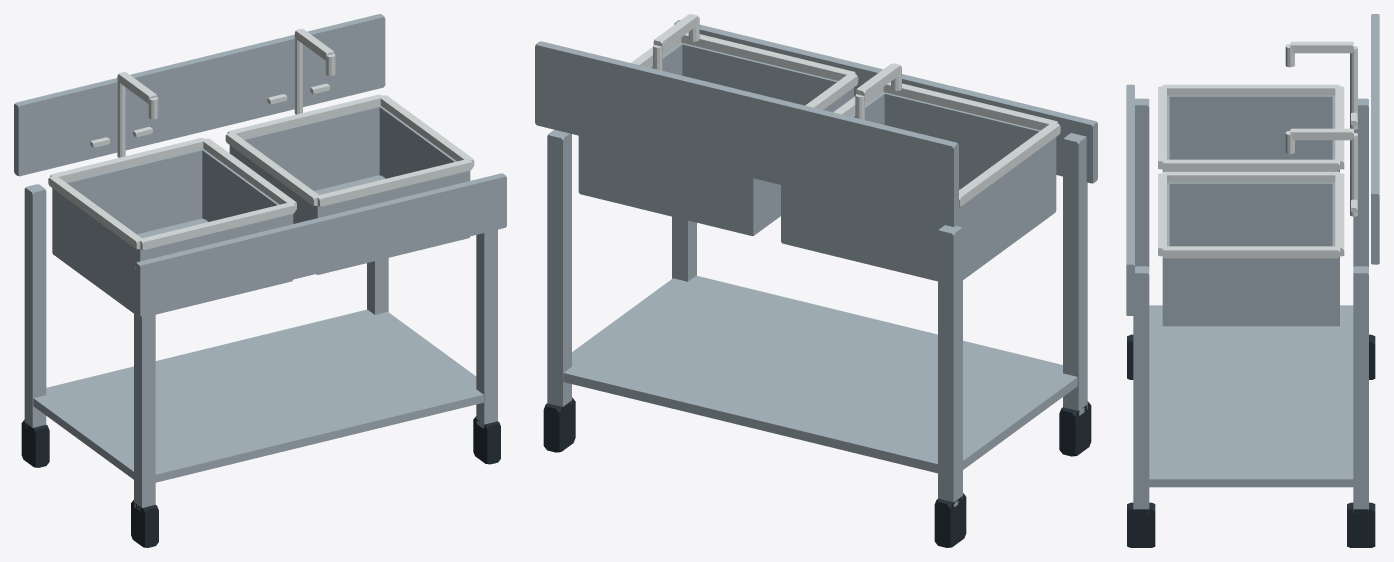
Rendered from DoubleSink.glb.
3 renders of one model, left to right at view 1: azimuth 30°, elevation 25°; view 2: azimuth 150°, elevation 25°; view 3: azimuth 270°, elevation 25°, orthographic. The views are drawn at different scales.
Parts seen in each view (by area): view 1: DoubleSink; view 2: DoubleSink; view 3: DoubleSink.
Boxes of the visible parts, x1,y1,x2,y2 form: DoubleSink: [14, 14, 506, 547]; DoubleSink: [535, 14, 1097, 547]; DoubleSink: [1126, 14, 1379, 547].
Size of the model in its own units: 1.2 by 1.16 by 0.715.
